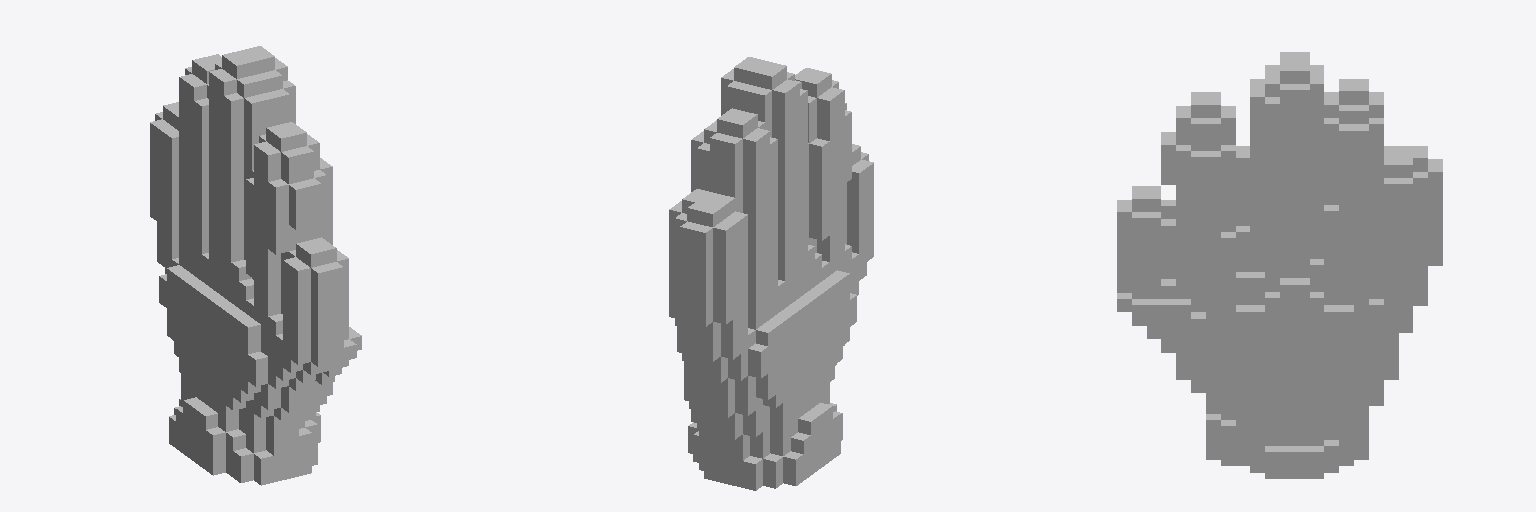
Rendered from Vancover Gloves.obj.
The picture shows the model from 3 angles: view 1: azimuth 30°, elevation 25°; view 2: azimuth 150°, elevation 25°; view 3: azimuth 270°, elevation 25°; orthographic projection.
Size of the model in its own units: 9 by 29 by 22.